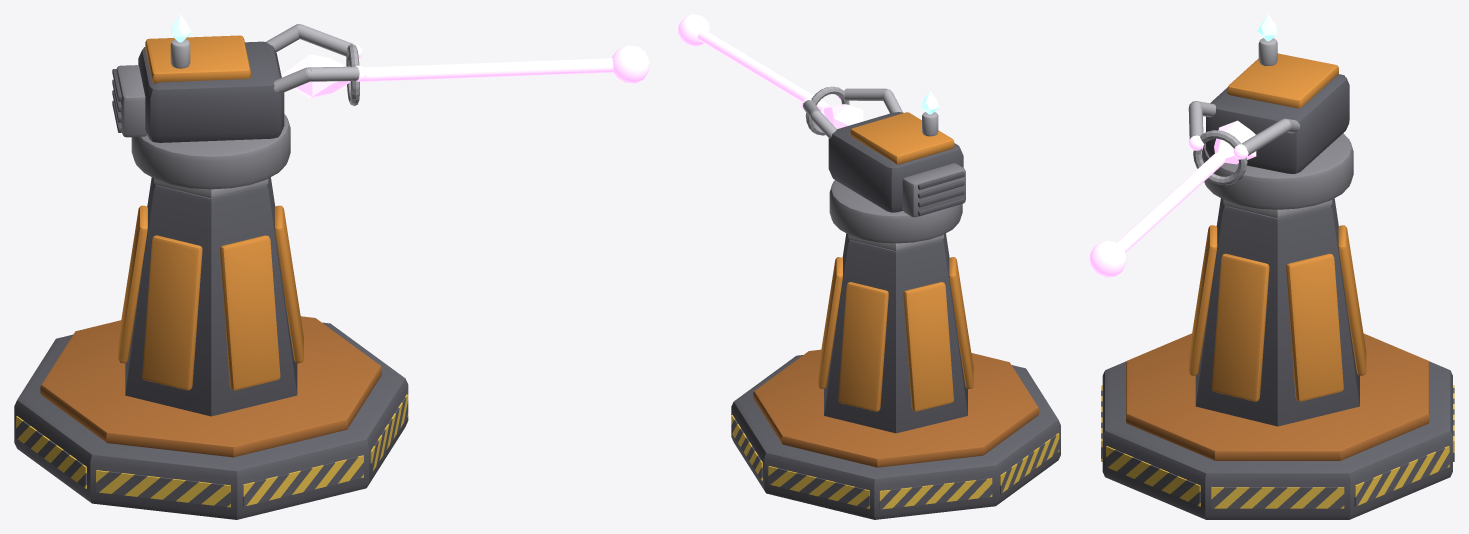
File: LaserTower.glb
The picture shows the model from 3 angles, left to right: view 1: azimuth 30°, elevation 25°; view 2: azimuth 150°, elevation 25°; view 3: azimuth 270°, elevation 25°; orthographic projection. The views are drawn at different scales.
Parts seen in each view (by area): view 1: LaserTower; view 2: LaserTower; view 3: LaserTower.
Boxes of the visible parts, <box> form: LaserTower: <box>14,14,649,519</box>; LaserTower: <box>678,14,1060,519</box>; LaserTower: <box>1089,14,1454,519</box>.
Bounding box in the file's own units: 1.77 × 1.46 × 1.15.
